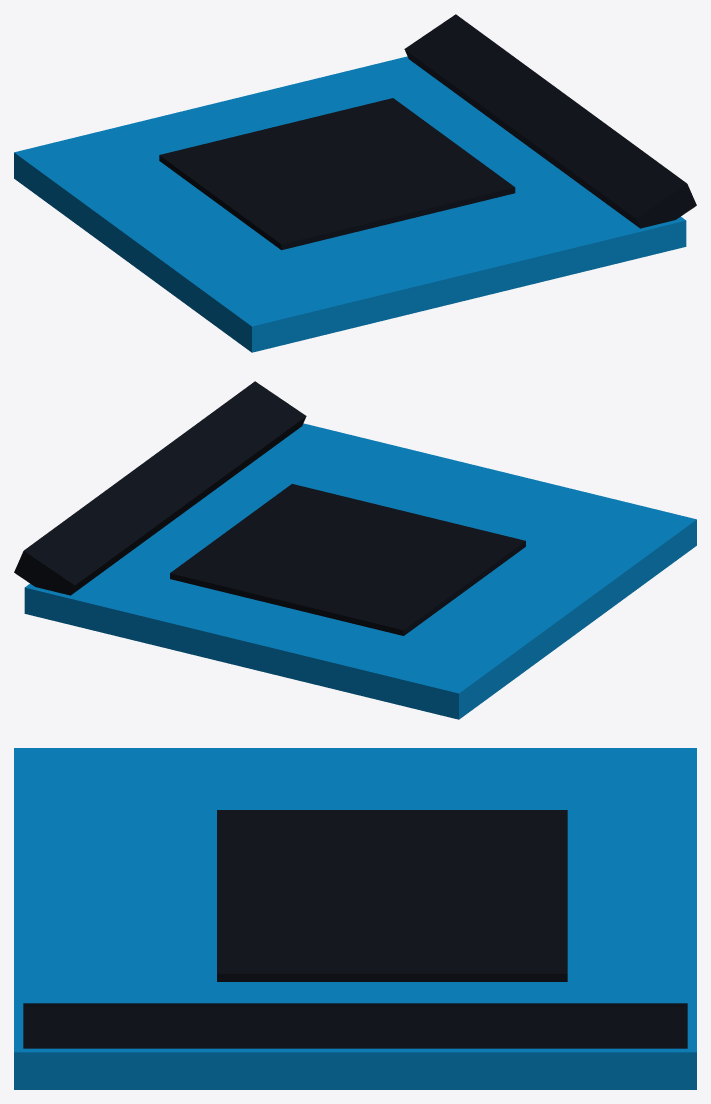
The model's file is trunk_decklid.glb.
The picture shows the model from 3 angles, top to bottom: view 1: azimuth 30°, elevation 25°; view 2: azimuth 150°, elevation 25°; view 3: azimuth 270°, elevation 25°; orthographic projection. The views are drawn at different scales.
Parts seen in each view (by area): view 1: Trunk_Decklid_Assembly; view 2: Trunk_Decklid_Assembly; view 3: Trunk_Decklid_Assembly.
Part boxes in pixels (bbox=[...]): Trunk_Decklid_Assembly: bbox=[14, 14, 696, 352]; Trunk_Decklid_Assembly: bbox=[14, 381, 696, 719]; Trunk_Decklid_Assembly: bbox=[14, 748, 696, 1089].
Bounding box in the file's own units: 0.8048 × 0.1024 × 0.74.
